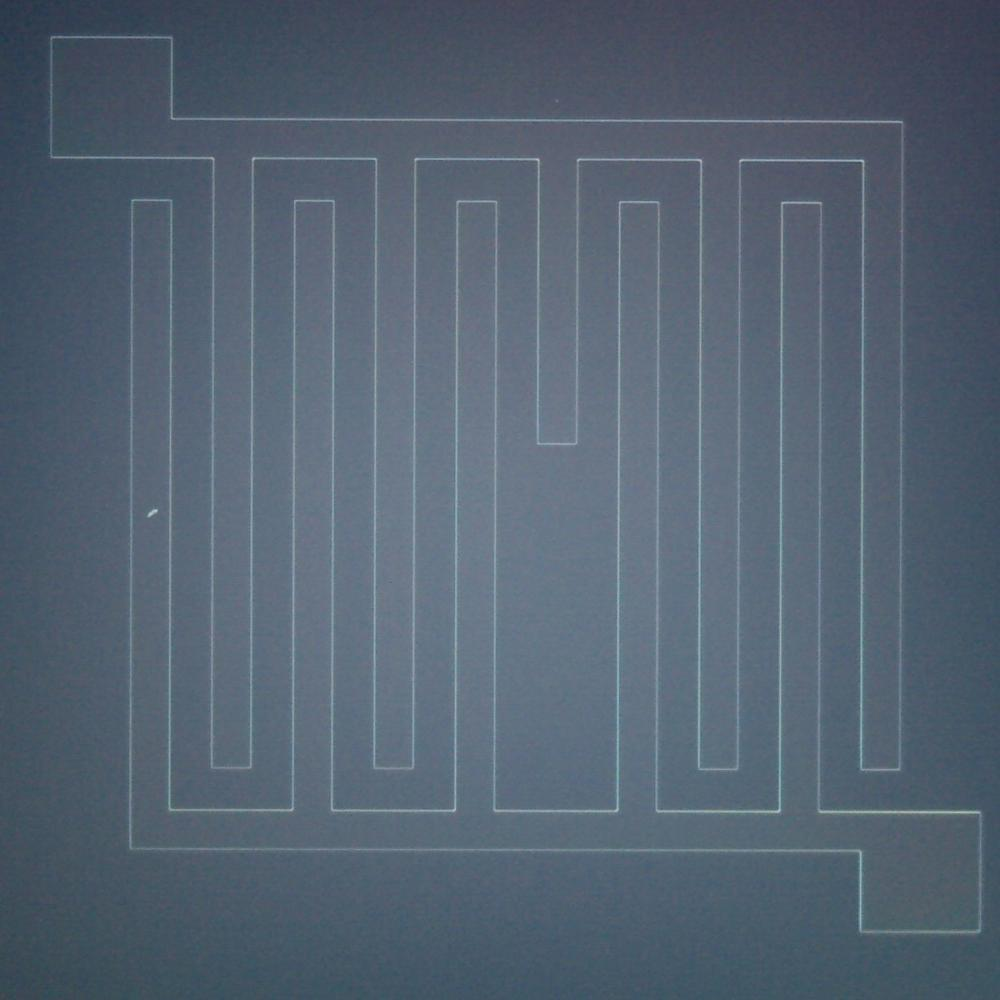cut circuit: (511, 147, 604, 827)
